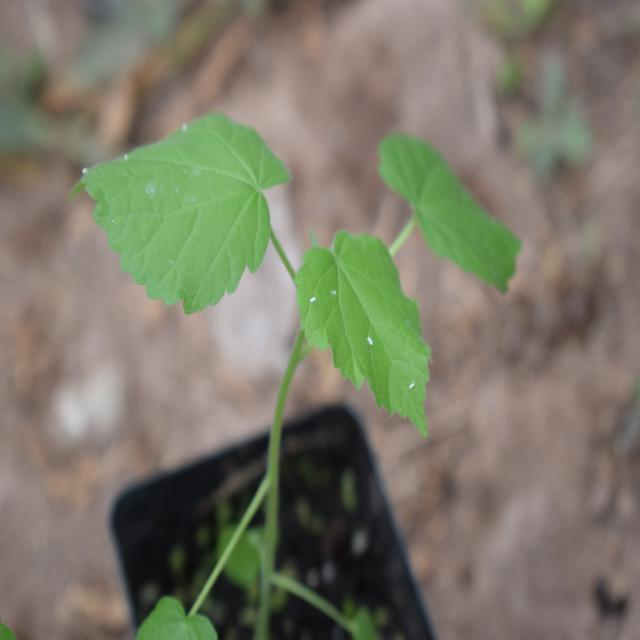abutilon theophrasti: (68, 98, 559, 434)
